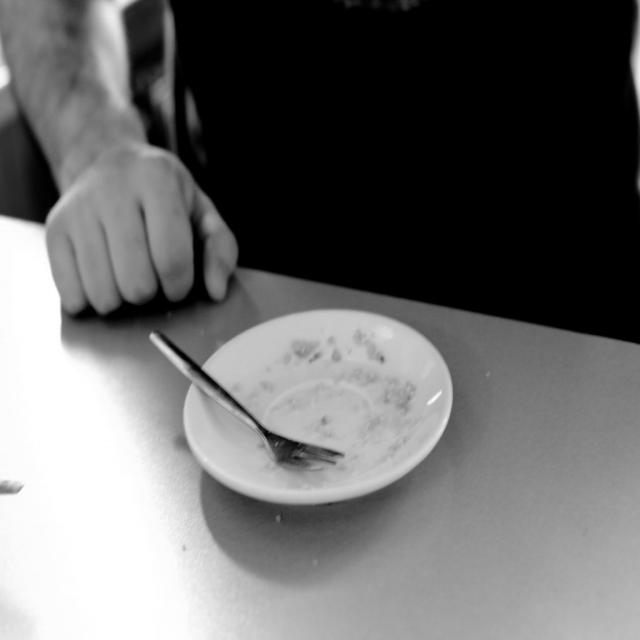non-organic waste: (188, 314, 450, 514)
